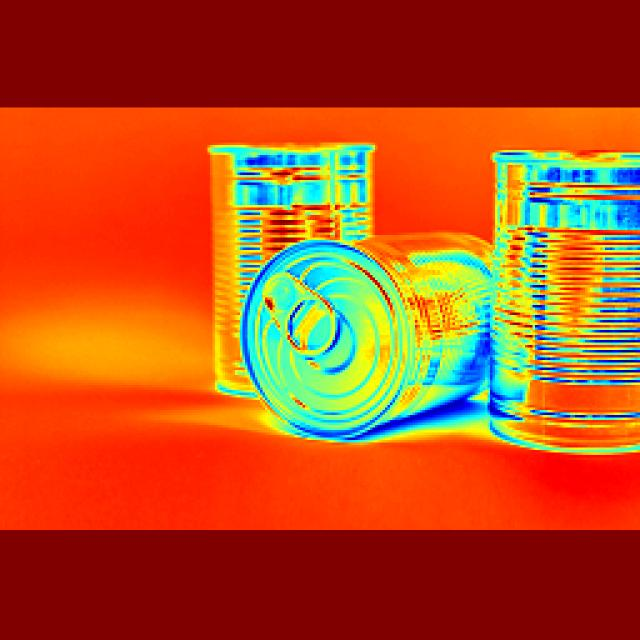Aluminium Food Cans: (259, 224, 475, 470), (500, 143, 635, 467), (206, 136, 360, 411)
